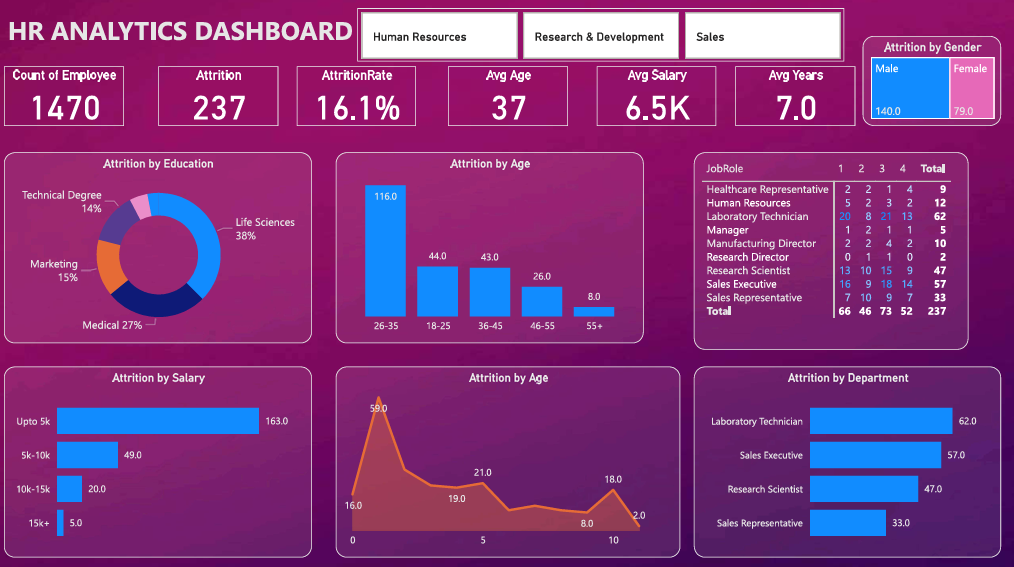

This screenshot's page, from the dashboard's own definition file:
{"tool":"powerbi","page":{"name":"Page 1","canvas":[1280,720],"ordinal":0},"visuals":[{"type":"card","title":"Count of Employee","fields":{"Values":["CountNonNull(HR_Analytics.EmpID)"]},"box":[6.4,86.1,150.4,74.5],"z":0},{"type":"card","title":"Attrition","fields":{"Values":["Sum(HR_Analytics.AttritionCount)"]},"box":[200.5,86.1,150.4,74.5],"z":1000},{"type":"card","title":"AttritionRate","fields":{"Values":["HR_Analytics.AttritionRate"]},"box":[374,86.1,150.4,74.5],"z":2000},{"type":"card","title":"Avg Age","fields":{"Values":["Avg(HR_Analytics.Age)"]},"box":[564.2,86.1,150.4,74.5],"z":3000},{"type":"card","title":"Avg Salary","fields":{"Values":["Avg(HR_Analytics.MonthlyIncome)"]},"box":[750.5,86.1,150.4,74.5],"z":4000},{"type":"card","title":"Avg Years","fields":{"Values":["Avg(HR_Analytics.YearsAtCompany)"]},"box":[925.3,86.1,150.4,74.5],"z":5000},{"type":"donutChart","title":"Attrition by Education","fields":{"Category":["HR_Analytics.EducationField"],"Y":["Sum(HR_Analytics.AttritionCount)"]},"box":[6.4,194.1,386.8,240.3],"z":6000},{"type":"columnChart","title":"Attrition by Age","fields":{"Category":["HR_Analytics.AgeGroup"],"Y":["Sum(HR_Analytics.AttritionCount)"]},"box":[422.8,194.1,386.8,240.3],"z":7000},{"type":"pivotTable","fields":{"Rows":["HR_Analytics.JobRole"],"Columns":["HR_Analytics.JobSatisfaction"],"Values":["Sum(HR_Analytics.AttritionCount)"]},"box":[872.6,194.1,345.7,248],"z":8000},{"type":"barChart","title":"Attrition by Salary","fields":{"Category":["HR_Analytics.SalarySlab"],"Y":["Sum(HR_Analytics.AttritionCount)"]},"box":[6.4,462.7,386.8,240.3],"z":9000},{"type":"barChart","title":"Attrition by Department","fields":{"Y":["Sum(HR_Analytics.AttritionCount)"],"Category":["HR_Analytics.JobRole"]},"box":[872.6,462.7,386.8,240.3],"z":10000},{"type":"areaChart","title":"Attrition by Age","fields":{"Category":["HR_Analytics.YearsAtCompany"],"Y":["Sum(HR_Analytics.AttritionCount)"]},"box":[422.8,462.7,433.1,240.3],"z":11000},{"type":"treemap","title":"Attrition by Gender","fields":{"Group":["HR_Analytics.Gender"],"Values":["Sum(HR_Analytics.AttritionCount)"]},"box":[1084.7,47.6,174.8,113.1],"z":12000},{"type":"advancedSlicerVisual","fields":{"Values":["HR_Analytics.Department"]},"box":[449.8,12.9,611.7,66.8],"z":13000},{"type":"textbox","box":[6.4,12.9,453.7,54],"z":14000}]}

Visuals, with their boxes in screenshot pixels (x1, y1, x2, y2), scaled from the page's 1280x720 canvas onto the 1014x567 screenshot:
"Count of Employee" card: box=[5, 68, 124, 126]
"Attrition" card: box=[159, 68, 278, 126]
"AttritionRate" card: box=[296, 68, 415, 126]
"Avg Age" card: box=[447, 68, 566, 126]
"Avg Salary" card: box=[595, 68, 714, 126]
"Avg Years" card: box=[733, 68, 852, 126]
"Attrition by Education" donutChart: box=[5, 153, 311, 342]
"Attrition by Age" columnChart: box=[335, 153, 641, 342]
pivotTable - HR_Analytics.JobRole x HR_Analytics.JobSatisfaction: box=[691, 153, 965, 348]
"Attrition by Salary" barChart: box=[5, 364, 311, 554]
"Attrition by Department" barChart: box=[691, 364, 998, 554]
"Attrition by Age" areaChart: box=[335, 364, 678, 554]
"Attrition by Gender" treemap: box=[859, 37, 998, 127]
advancedSlicerVisual - HR_Analytics.Department: box=[356, 10, 841, 63]
textbox: box=[5, 10, 364, 53]
